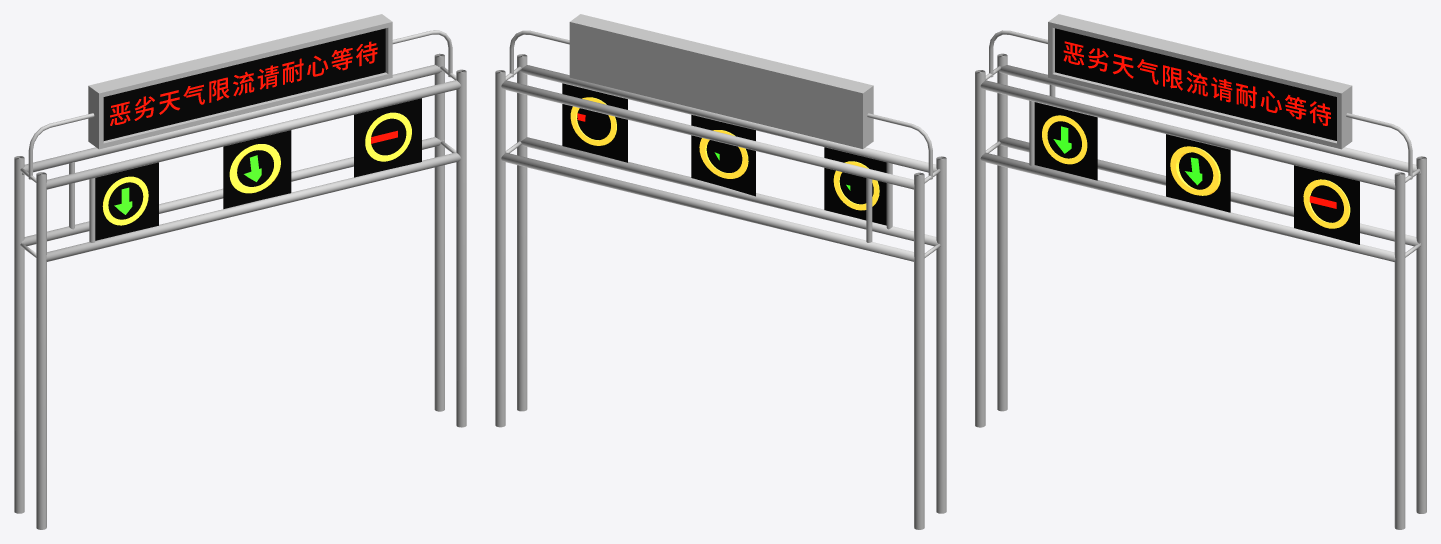
Rendered from 情报板.glb.
The picture shows the model from 3 angles, left to right: view 1: azimuth 30°, elevation 25°; view 2: azimuth 150°, elevation 25°; view 3: azimuth 330°, elevation 25°; orthographic projection.
Parts seen in each view (by area): view 1: 情报板.007, 平面.016, 柱体.057, 柱体.058, 柱体.061, 柱体.062, 柱体.059, 柱体.060, 柱体.055, 恶劣天气限流请耐心等待.003, 柱体.056, Vert.004 (+3 smaller); view 2: 情报板.007, 平面.016, 柱体.055, 柱体.056, 柱体.058, 柱体.062, 柱体.061, 柱体.060, 柱体.059, 柱体.057, Vert.004, 柱体.047 (+2 smaller); view 3: 情报板.007, 平面.016, 柱体.057, 柱体.059, 柱体.058, 柱体.060, 柱体.061, 柱体.062, 柱体.055, 恶劣天气限流请耐心等待.003, 柱体.056, 柱体.047 (+3 smaller).
Boxes of the visible parts, x1,y1,x2,y2 form: 情报板.007: (88, 14, 392, 149); 平面.016: (95, 98, 421, 240); 柱体.057: (46, 80, 460, 189); 柱体.058: (46, 152, 461, 261); 柱体.061: (36, 172, 46, 529); 柱体.062: (14, 156, 24, 513); 柱体.059: (456, 69, 466, 427); 柱体.060: (434, 53, 444, 411); 柱体.055: (22, 64, 441, 174); 恶劣天气限流请耐心等待.003: (110, 41, 377, 125); 柱体.056: (22, 137, 444, 246); Vert.004: (28, 30, 452, 179); 情报板.007: (569, 14, 873, 148); 平面.016: (562, 83, 886, 225); 柱体.055: (501, 80, 914, 189); 柱体.056: (501, 152, 914, 261); 柱体.058: (517, 137, 937, 246); 柱体.062: (914, 172, 924, 529); 柱体.061: (936, 156, 946, 513); 柱体.060: (495, 70, 505, 427); 柱体.059: (517, 54, 527, 411); 柱体.057: (520, 65, 936, 172); Vert.004: (509, 30, 932, 179); 柱体.047: (699, 130, 748, 178); 情报板.007: (1048, 14, 1352, 149); 平面.016: (1034, 102, 1359, 244); 柱体.057: (980, 80, 1395, 189); 柱体.059: (1394, 172, 1405, 529); 柱体.058: (980, 152, 1395, 261); 柱体.060: (1416, 156, 1426, 513); 柱体.061: (975, 70, 985, 427); 柱体.062: (997, 53, 1007, 411); 柱体.055: (999, 65, 1420, 174); 恶劣天气限流请耐心等待.003: (1063, 41, 1330, 125); 柱体.056: (999, 137, 1420, 246); 柱体.047: (1170, 146, 1220, 195).
Bounding box in the file's own units: 23.14 × 21.4 × 2.56.
